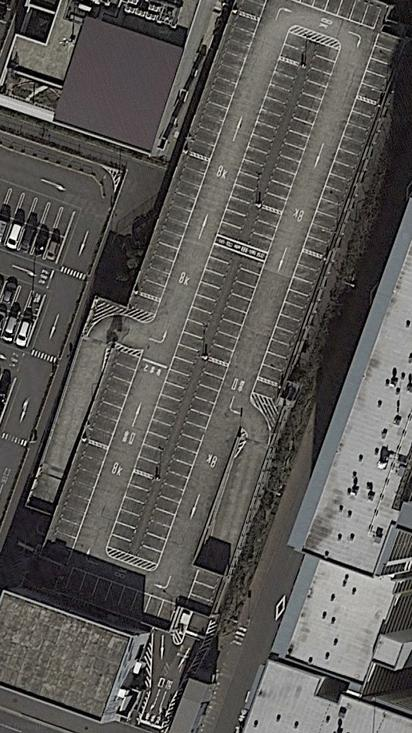parkingspot: (132, 240, 239, 481), (132, 358, 231, 568), (216, 57, 304, 244), (259, 41, 342, 214), (301, 96, 383, 259), (136, 153, 213, 302), (186, 11, 261, 161), (255, 249, 329, 387), (41, 440, 111, 568), (61, 565, 181, 632), (205, 253, 268, 367), (85, 348, 143, 450), (104, 470, 159, 557), (0, 183, 78, 239), (355, 31, 405, 105), (0, 215, 67, 267), (288, 0, 384, 31), (0, 275, 47, 323), (183, 567, 224, 618), (245, 205, 285, 255), (0, 308, 37, 351), (279, 31, 313, 66), (131, 292, 162, 317), (251, 377, 282, 401), (236, 0, 269, 20)
